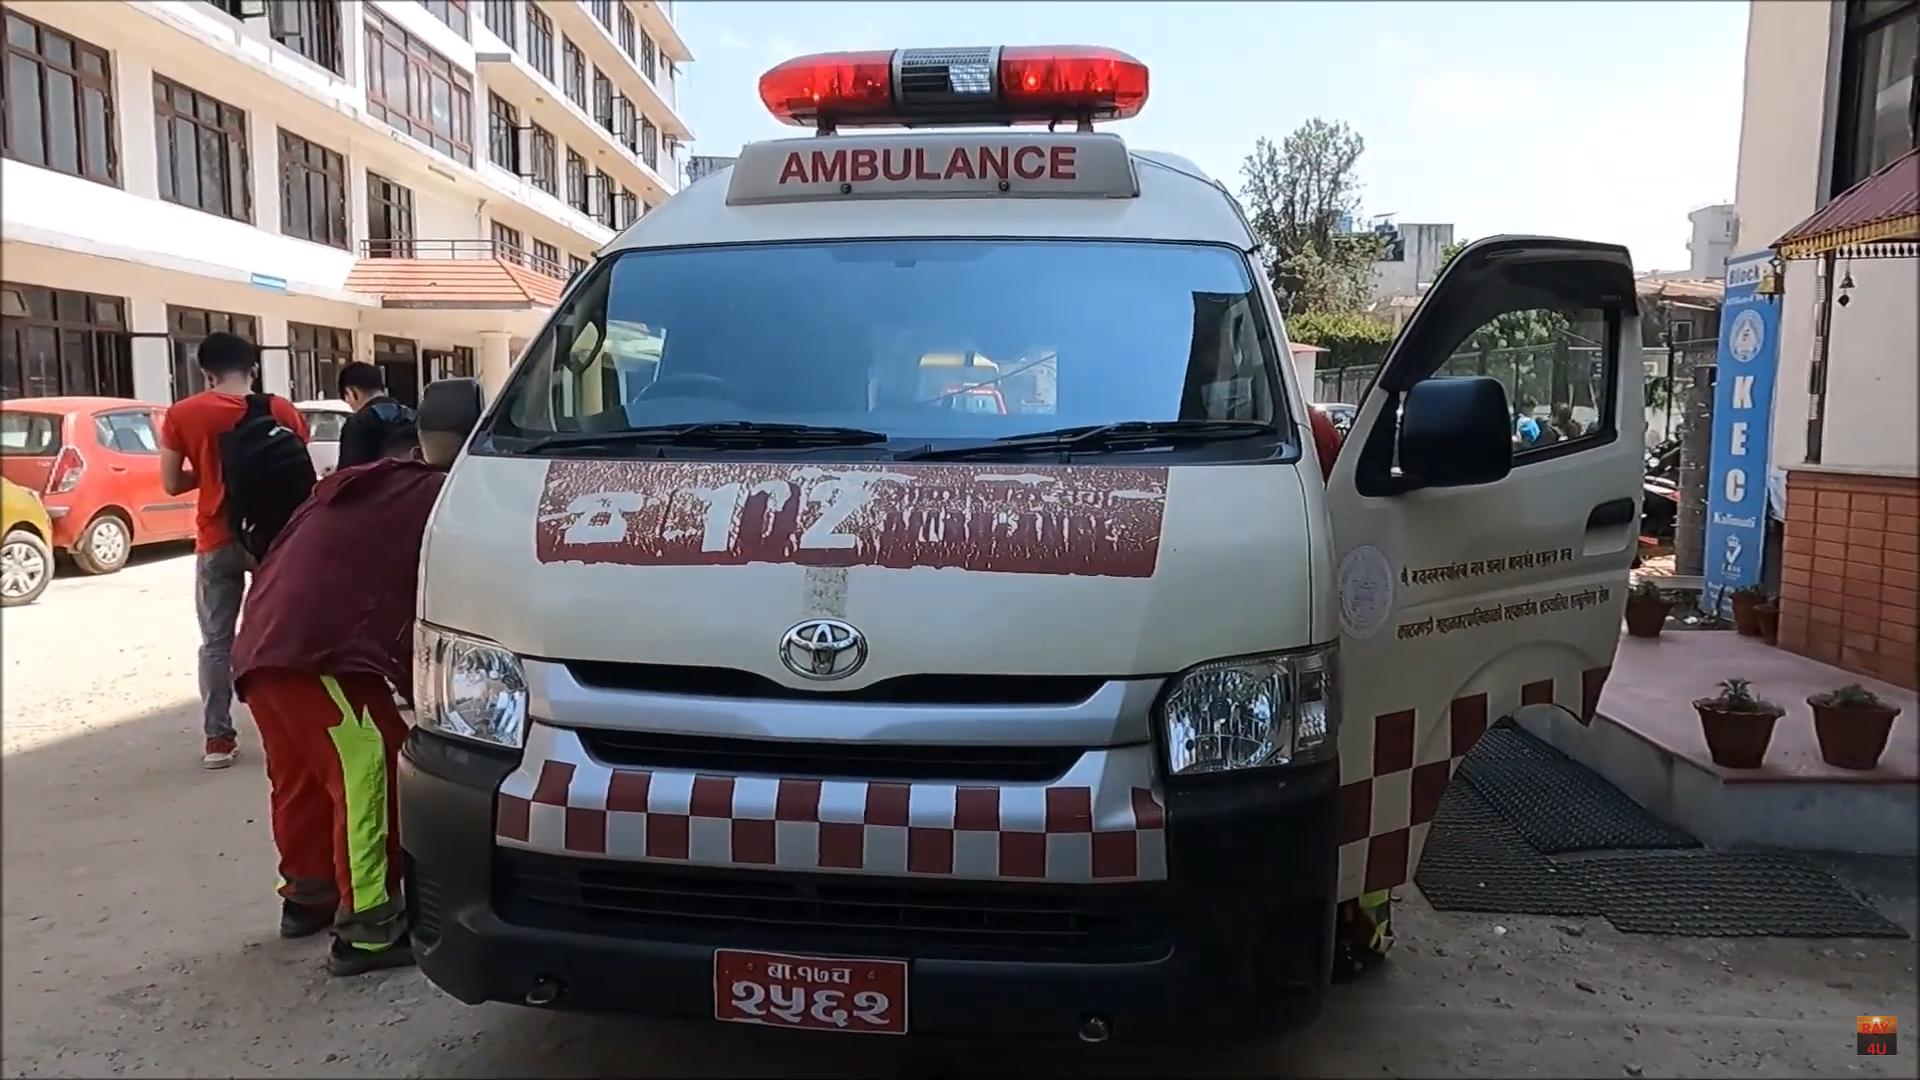ambulance: (381, 32, 1433, 1080)
